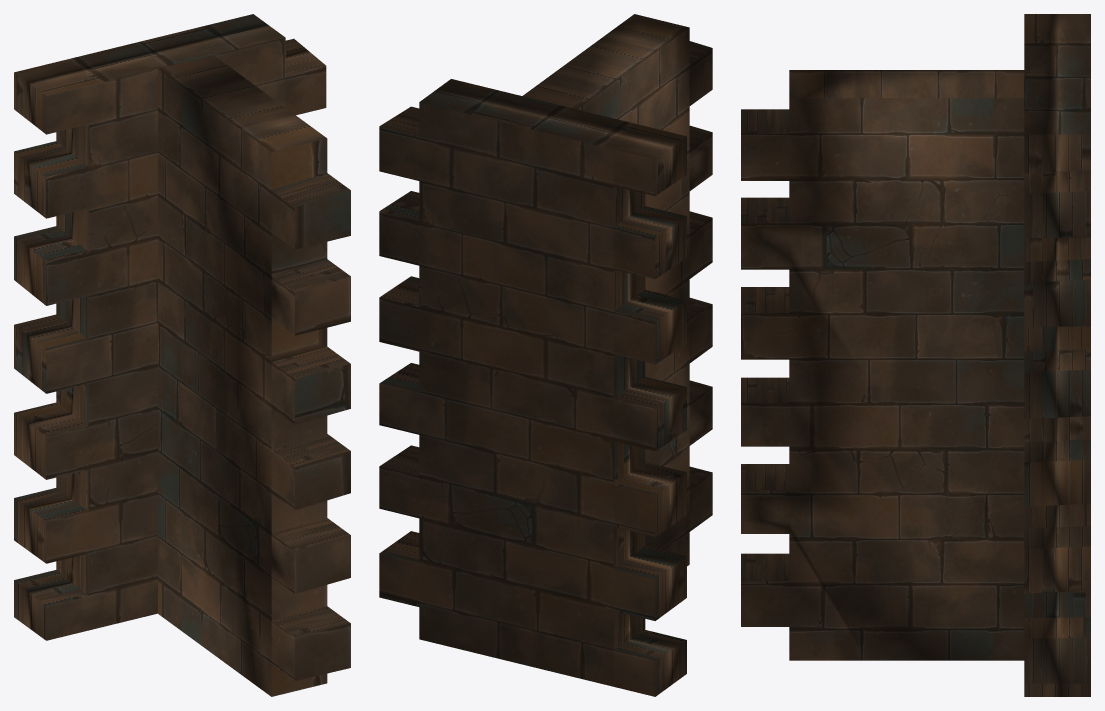
File: wall_connection_ct.fbx
3 views of the same model, side by side, from view 1: azimuth 30°, elevation 25°; view 2: azimuth 150°, elevation 25°; view 3: azimuth 270°, elevation 25° (orthographic). The views are drawn at different scales.
Visible parts, largest first — view 1: ściana.003; view 2: ściana.003; view 3: ściana.003.
Part boxes in pixels (x1=…): ściana.003: x1=14, y1=14, x2=350, y2=696; ściana.003: x1=379, y1=14, x2=712, y2=696; ściana.003: x1=741, y1=14, x2=1090, y2=696.
Size of the model in its own units: 269 by 500 by 282.
Materials: 1 (1 with a texture image).
